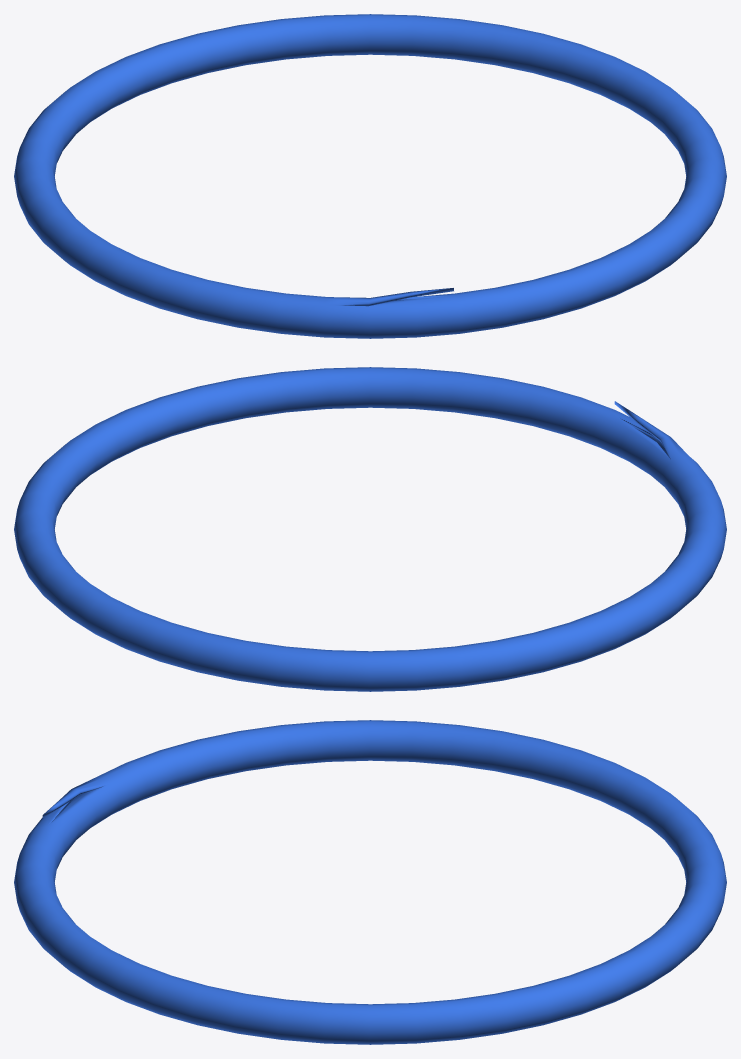
File: cerceau_casse.fbx
The picture shows the model from 3 angles, top to bottom: view 1: azimuth 30°, elevation 25°; view 2: azimuth 150°, elevation 25°; view 3: azimuth 270°, elevation 25°; orthographic projection.
Visible parts, largest first — view 1: Cerceau_Cassé; view 2: Cerceau_Cassé; view 3: Cerceau_Cassé.
Part boxes in pixels (x1,y1,x2,y2): Cerceau_Cassé: (14,14,726,338); Cerceau_Cassé: (14,367,726,691); Cerceau_Cassé: (14,720,726,1044).
Bounding box in the file's own units: 237 × 17.17 × 237.
